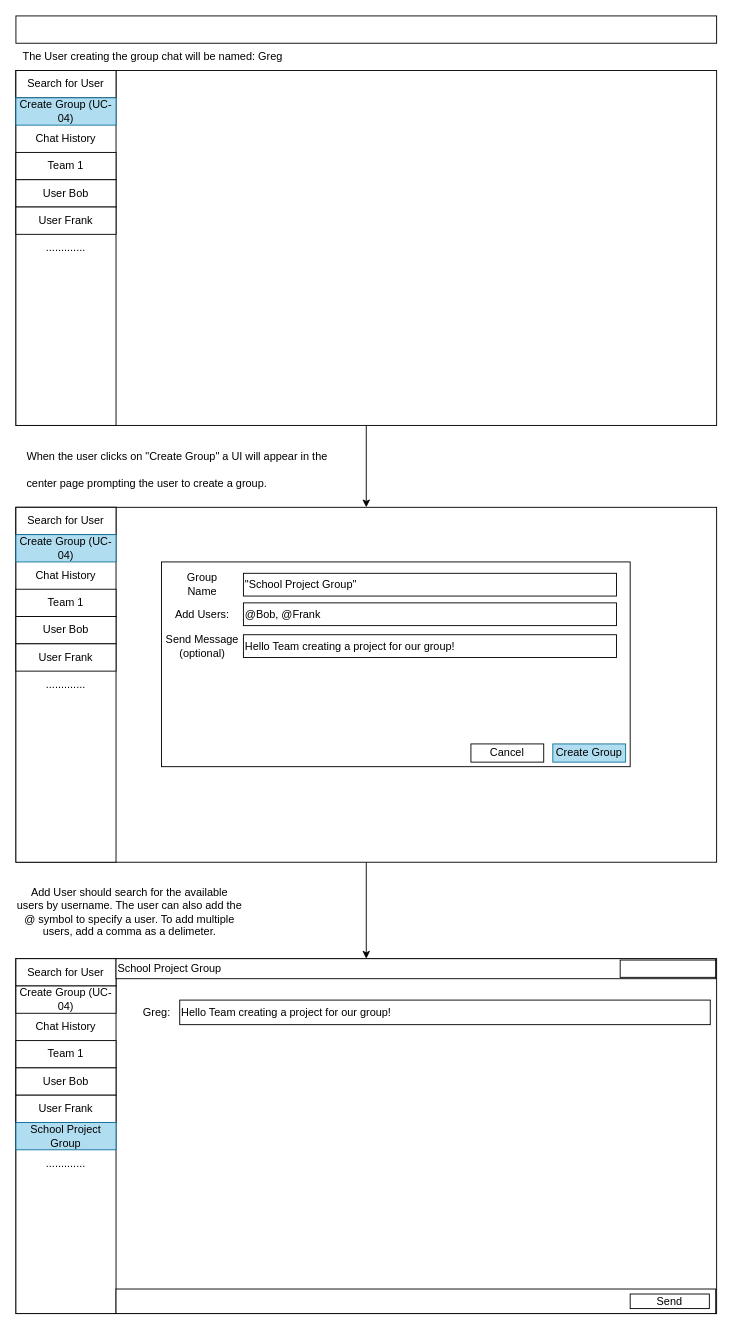
Image size: 733x1330. Some labels were removed from this diagram. Here are the shapes that lost their labels. From the top down, the box of each, then its label:
(15, 15, 717, 43): UI Design for Creating a Group Message (Use-Case-04)
(619, 959, 716, 977): View Users Button
(115, 1288, 716, 1314): Type Message
